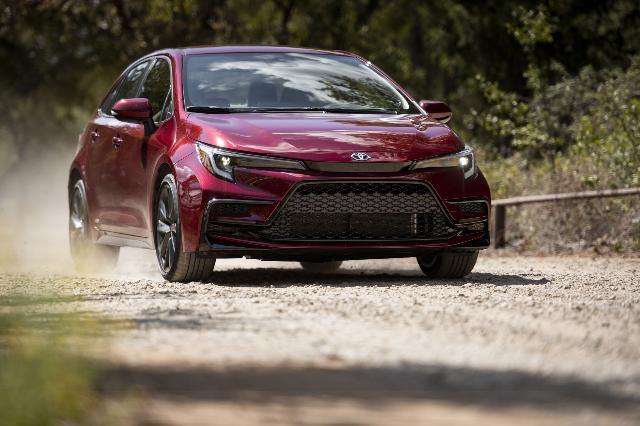toyota: (68, 45, 492, 282)
